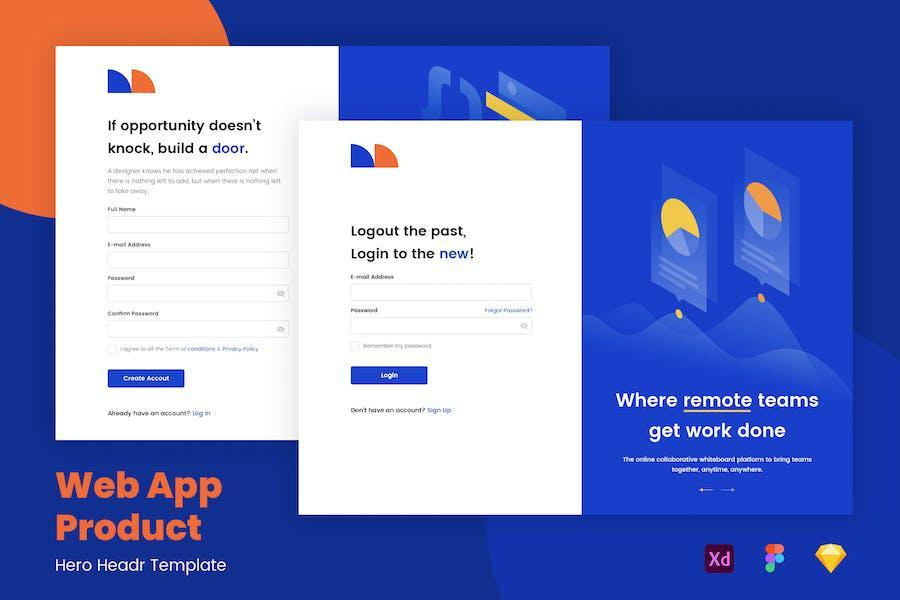button: (352, 368, 429, 386), (109, 371, 186, 388)
checkbox: (107, 345, 117, 355), (351, 343, 361, 352)
input: (109, 319, 292, 340), (108, 251, 290, 270), (351, 317, 533, 336), (109, 285, 290, 304), (353, 284, 532, 303), (109, 217, 289, 235)
label: (107, 311, 163, 319), (107, 241, 155, 250), (350, 273, 397, 281), (108, 206, 140, 216), (107, 275, 139, 283), (351, 308, 384, 315)
